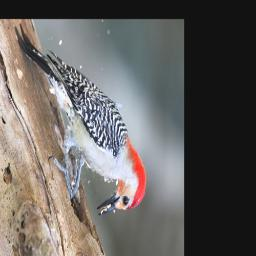Woodpecker: (16, 27, 146, 215)
